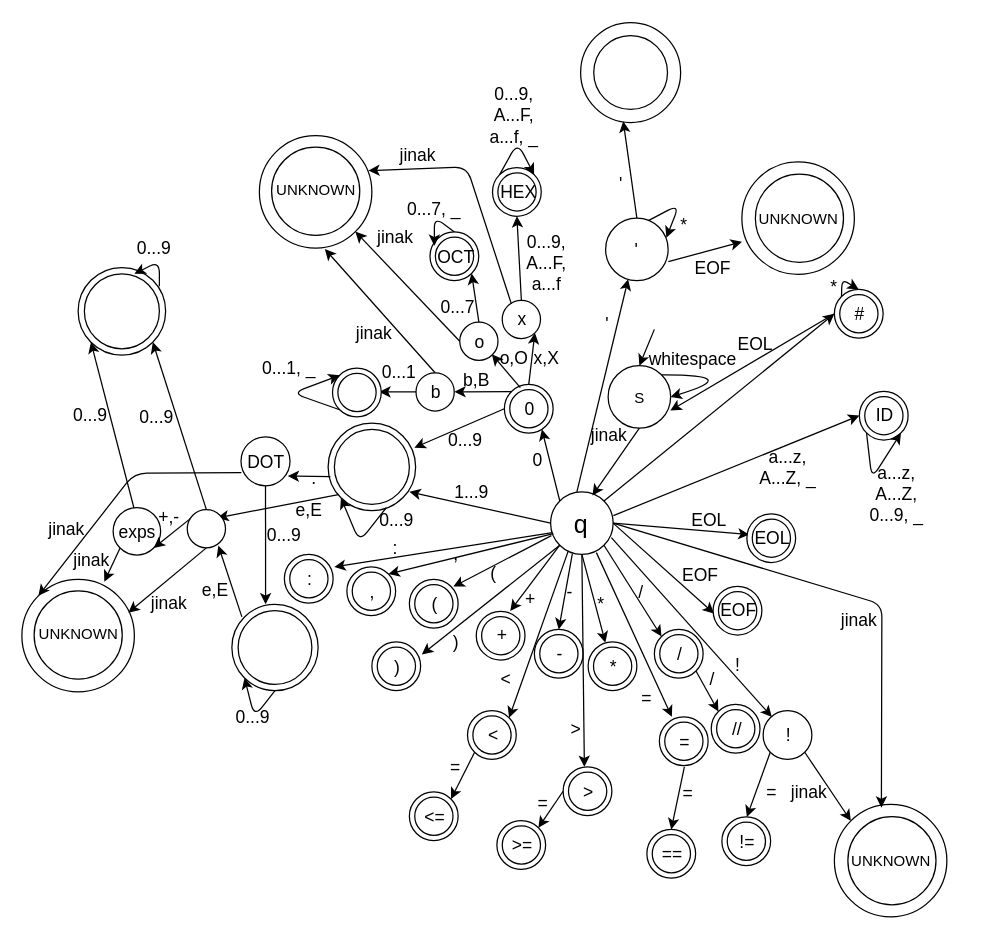
Some shapes in this 981 by 939 pixel diagram are drawn without their labels. Each missing label, with the centre of its shape:
"BIN" goes at (356,392).
"DOTN" goes at (274,646).
"exp" goes at (206,528).
"FLOAT" goes at (121,310).
"NUM" goes at (371,466).
"STRING Finish" goes at (630,71).
